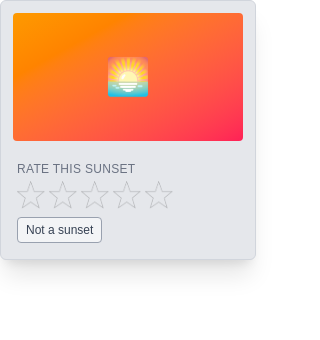
Test: FrameLabelCard › reports a refused write instead of showing a save
Click the 4th radio button: (127, 195) x1=113 y1=181 x2=141 y2=209
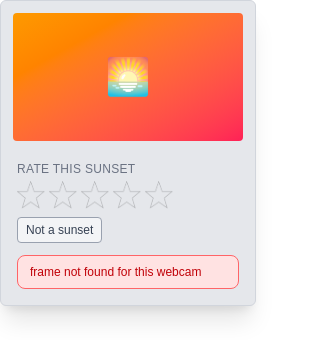
Check: the text "frame not found for this webcam" is shown, box x1=17 y1=255 x2=239 y2=289
